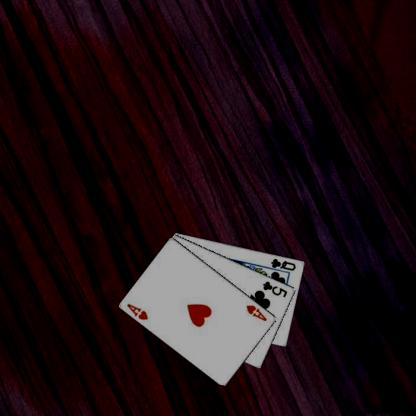5C: (261, 279, 289, 298)
AH: (125, 301, 149, 321), (244, 303, 268, 322)
QC: (269, 256, 297, 272)
